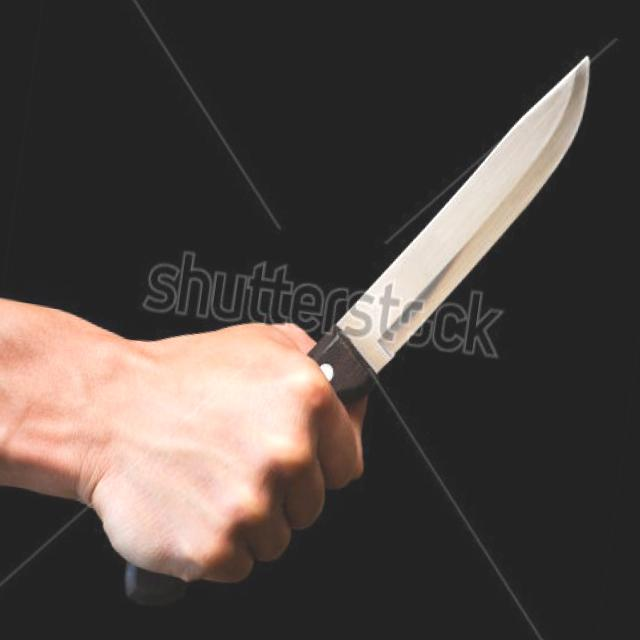knife: (200, 1, 602, 628)
